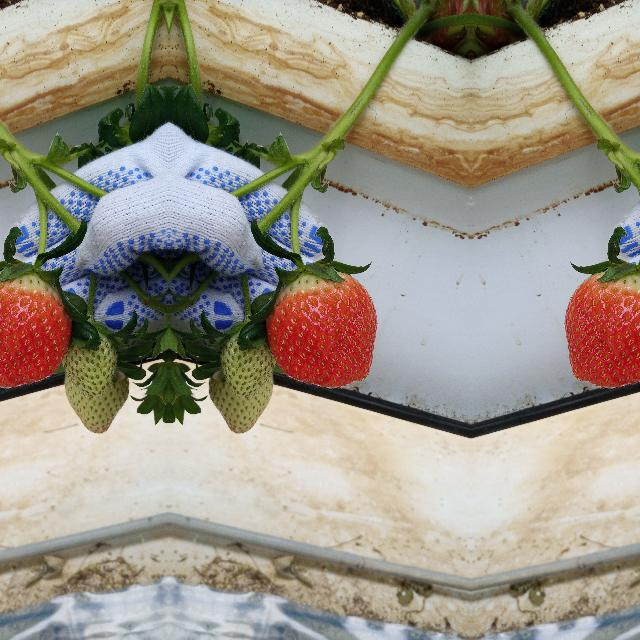Health_100: (264, 271, 378, 389), (563, 271, 640, 389), (0, 271, 72, 389)
Health_25: (210, 320, 278, 440), (58, 320, 125, 440)
